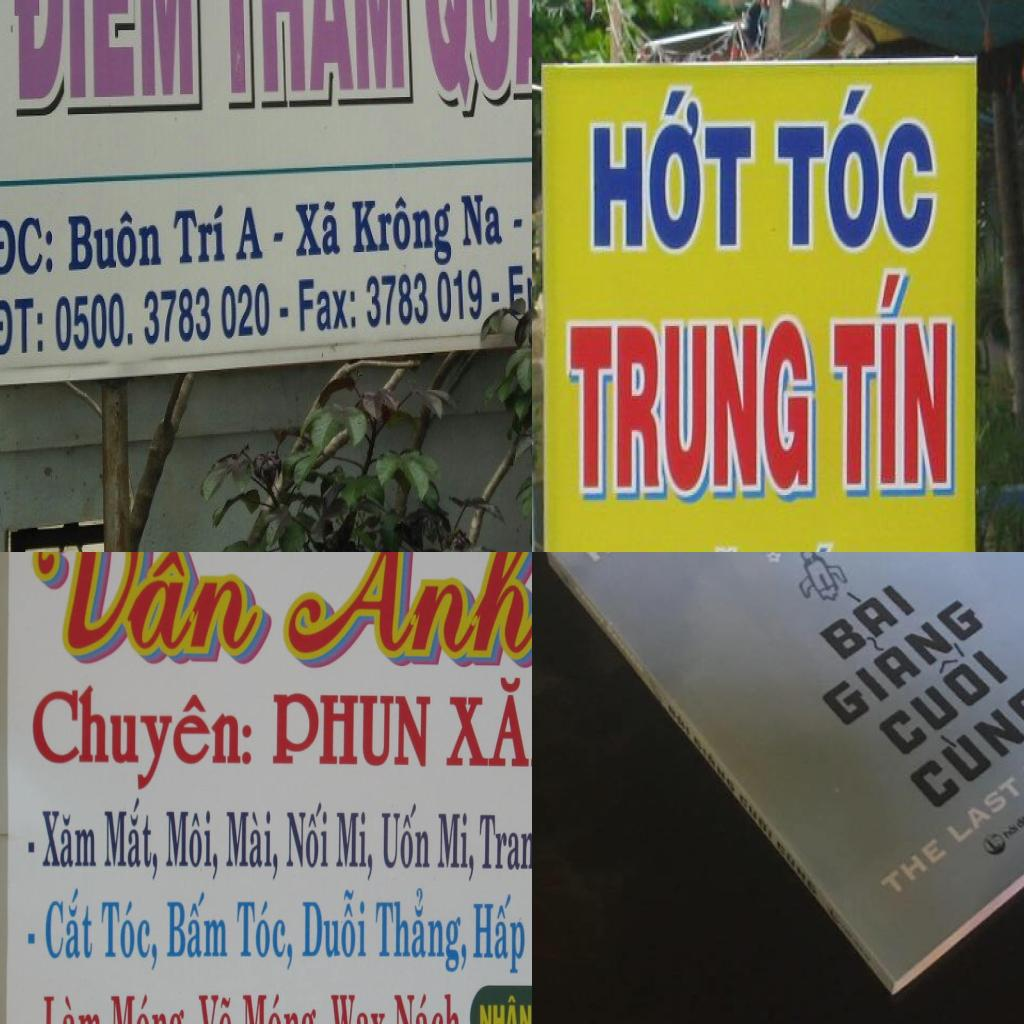text: (569, 314, 815, 502), (273, 552, 532, 667), (24, 552, 280, 666), (590, 85, 758, 251), (774, 86, 938, 254), (832, 270, 954, 495), (810, 588, 990, 731), (32, 685, 255, 791), (211, 0, 413, 109), (10, 0, 201, 115), (866, 634, 1012, 762), (896, 672, 1024, 813), (54, 276, 273, 357), (420, 0, 532, 125), (271, 691, 433, 770), (806, 571, 918, 660), (372, 886, 470, 972), (445, 676, 532, 769), (348, 194, 455, 268), (366, 266, 486, 330), (66, 209, 163, 272), (943, 772, 1024, 846), (876, 836, 952, 900), (103, 794, 158, 882), (300, 888, 367, 960), (164, 888, 229, 959), (474, 892, 526, 978), (236, 896, 296, 970), (100, 899, 160, 972), (165, 808, 220, 882), (225, 810, 280, 884), (479, 813, 532, 888), (297, 273, 358, 336), (0, 213, 54, 284), (171, 199, 228, 265), (42, 888, 94, 959), (42, 810, 99, 869), (382, 804, 432, 869), (291, 196, 343, 258), (285, 802, 330, 871), (0, 293, 45, 358), (335, 811, 374, 886), (240, 993, 329, 1024), (460, 194, 508, 249), (437, 811, 475, 880), (111, 995, 191, 1024), (393, 992, 462, 1024), (232, 204, 268, 263), (42, 995, 103, 1024), (330, 993, 386, 1024), (478, 996, 532, 1024), (506, 259, 532, 317), (199, 994, 234, 1024)
